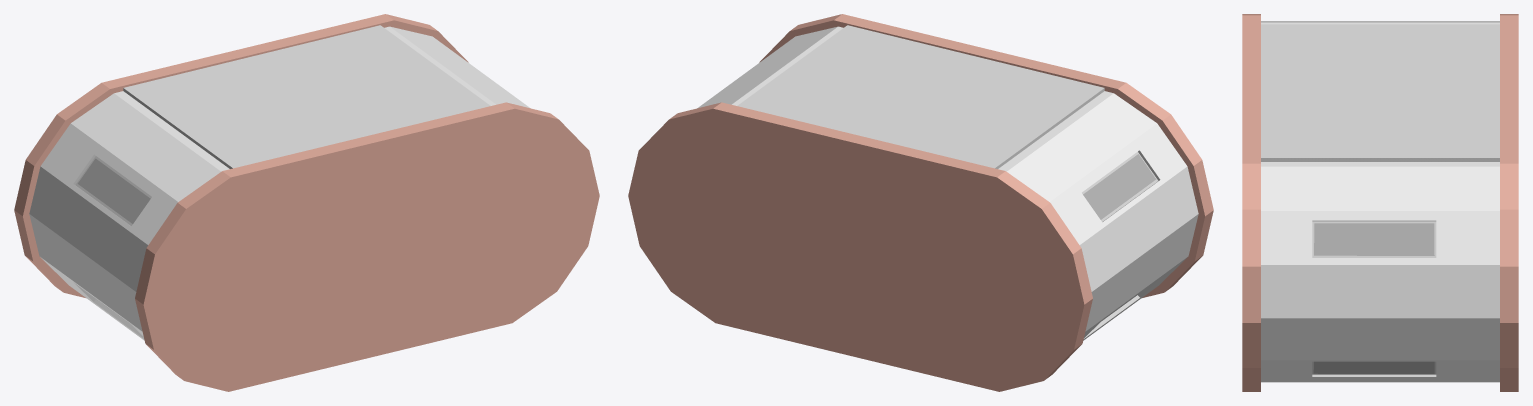
The picture shows the model from 3 angles, left to right: view 1: azimuth 30°, elevation 25°; view 2: azimuth 150°, elevation 25°; view 3: azimuth 270°, elevation 25°; orthographic projection. The views are drawn at different scales.
Visible parts, largest first — view 1: Cylinder_7; view 2: Cylinder_7; view 3: Cylinder_7.
Boxes of the visible parts, left/top/right/bottom form: Cylinder_7: left=14, top=14, right=599, bottom=391; Cylinder_7: left=628, top=14, right=1213, bottom=391; Cylinder_7: left=1242, top=14, right=1518, bottom=391.
Size of the model in its own units: 975 by 438 by 479.
